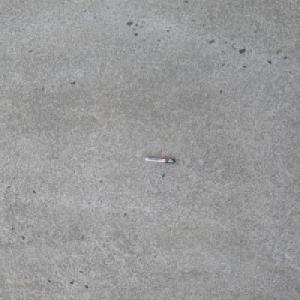Battery: (144, 157, 175, 163)
